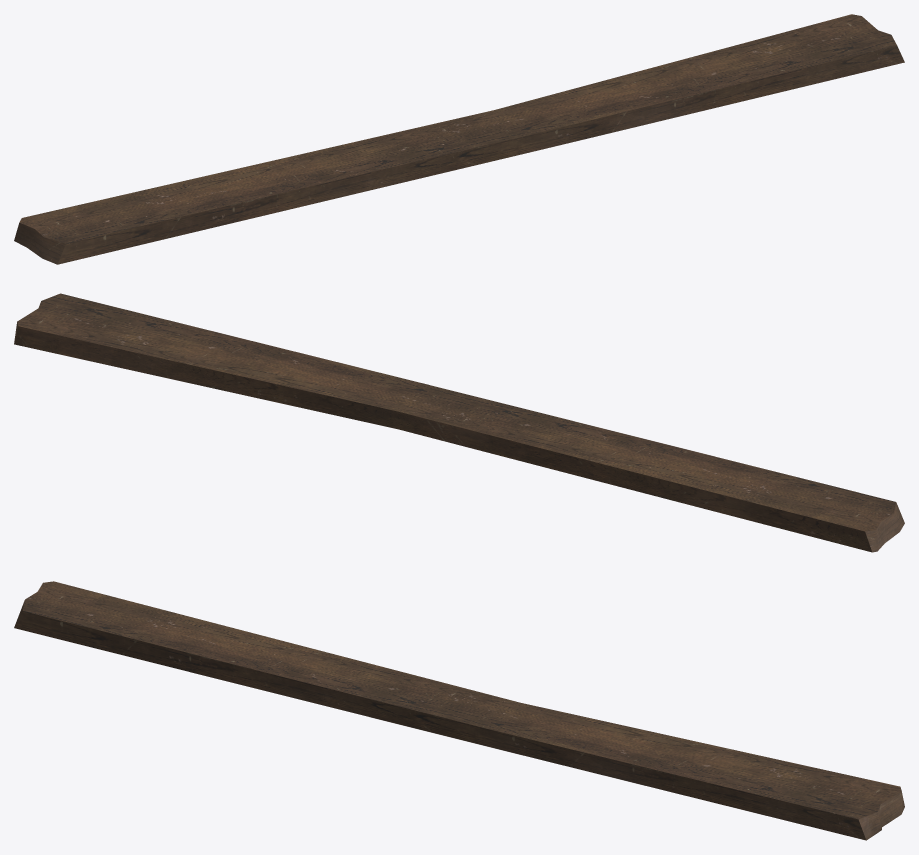
Rendered from SM_Plank_05.fbx.
The picture shows the model from 3 angles, top to bottom: view 1: azimuth 30°, elevation 25°; view 2: azimuth 150°, elevation 25°; view 3: azimuth 330°, elevation 25°; orthographic projection.
Visible parts, largest first — view 1: SM_Plank_05_LOD0; view 2: SM_Plank_05_LOD0; view 3: SM_Plank_05_LOD0.
Boxes of the visible parts, <box> form: SM_Plank_05_LOD0: <box>14,14,904,264</box>; SM_Plank_05_LOD0: <box>14,293,904,552</box>; SM_Plank_05_LOD0: <box>14,581,904,840</box>.
Size of what is drawn, in the model's own units: 472 by 10.01 by 41.61.
